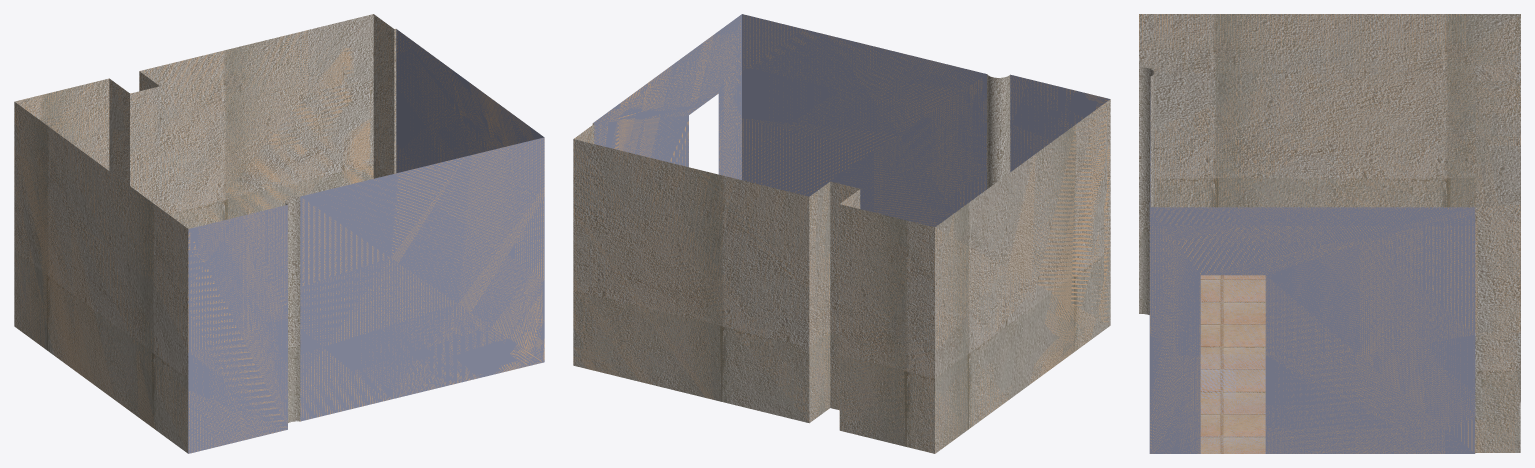
File: DES003.obj
The picture shows the model from 3 angles, left to right: view 1: azimuth 30°, elevation 25°; view 2: azimuth 150°, elevation 25°; view 3: azimuth 270°, elevation 25°; orthographic projection. The views are drawn at different scales.
Visible parts, largest first — view 1: Mesh1 DES003 Model; view 2: Mesh1 DES003 Model; view 3: Mesh1 DES003 Model.
Boxes of the visible parts, bbox=[...] form: Mesh1 DES003 Model: bbox=[14, 14, 544, 453]; Mesh1 DES003 Model: bbox=[573, 14, 1110, 453]; Mesh1 DES003 Model: bbox=[1139, 14, 1520, 453].
Bounding box in the file's own units: 6.05 × 3.6 × 5.05.
Materials: 4 (2 with a texture image).
